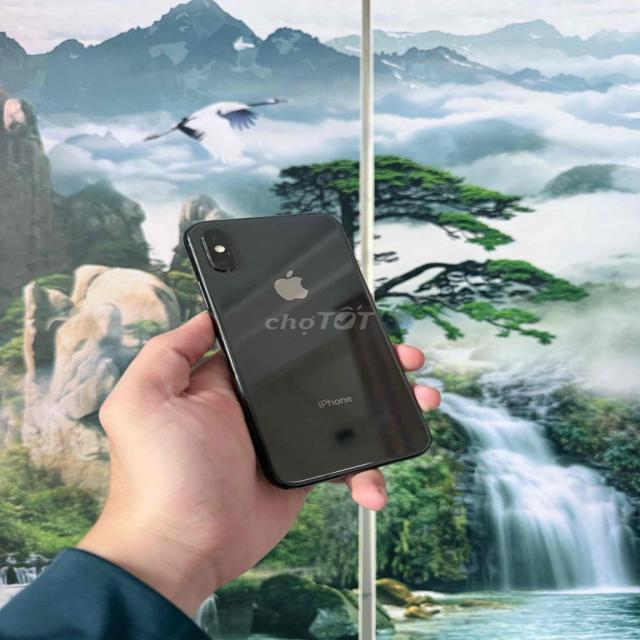scratch: (220, 247, 237, 260), (285, 332, 303, 342)
